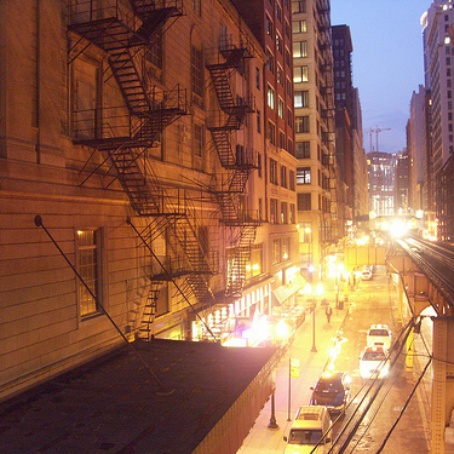building: (1, 1, 296, 365), (282, 1, 336, 256), (331, 40, 373, 229)
car: (312, 366, 345, 421), (354, 345, 389, 383), (361, 324, 395, 349)
sky: (343, 1, 420, 140)
